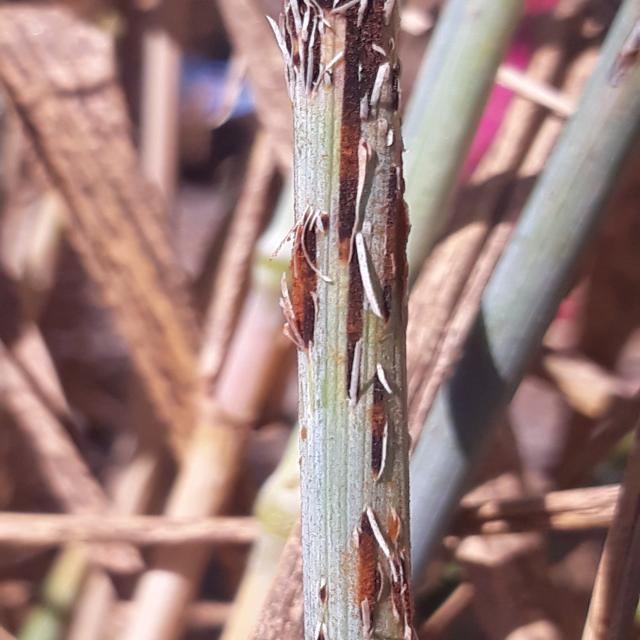black_stem_rust: (223, 0, 465, 640), (0, 6, 238, 640)
